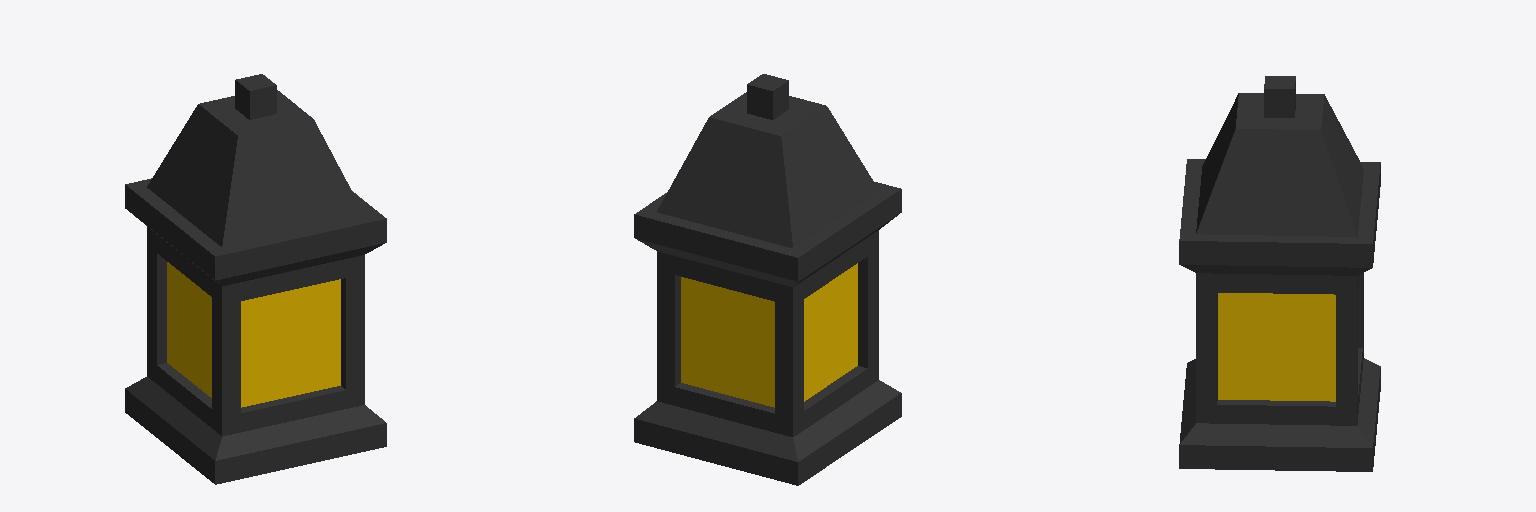
Rendered from Lantern.obj.
3 views of the same model, side by side, from view 1: azimuth 30°, elevation 25°; view 2: azimuth 150°, elevation 25°; view 3: azimuth 270°, elevation 25° (orthographic).
Visible parts, largest first — view 1: Lantern; view 2: Lantern; view 3: Lantern.
Boxes of the visible parts, box(x1,y1,x2,y2) form: Lantern: box(125, 74, 386, 484); Lantern: box(634, 74, 901, 485); Lantern: box(1179, 76, 1380, 471).
Size of the model in its own units: 0.837 by 1.59 by 0.837.